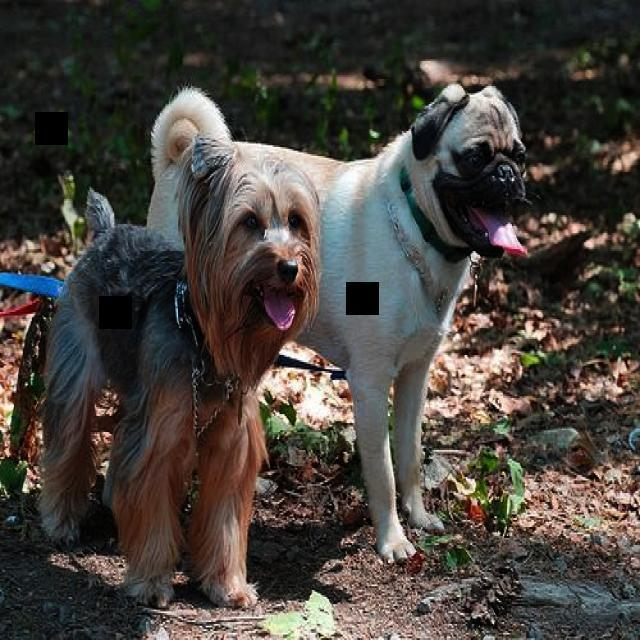adult_dog: (144, 79, 536, 568), (27, 135, 324, 612)
